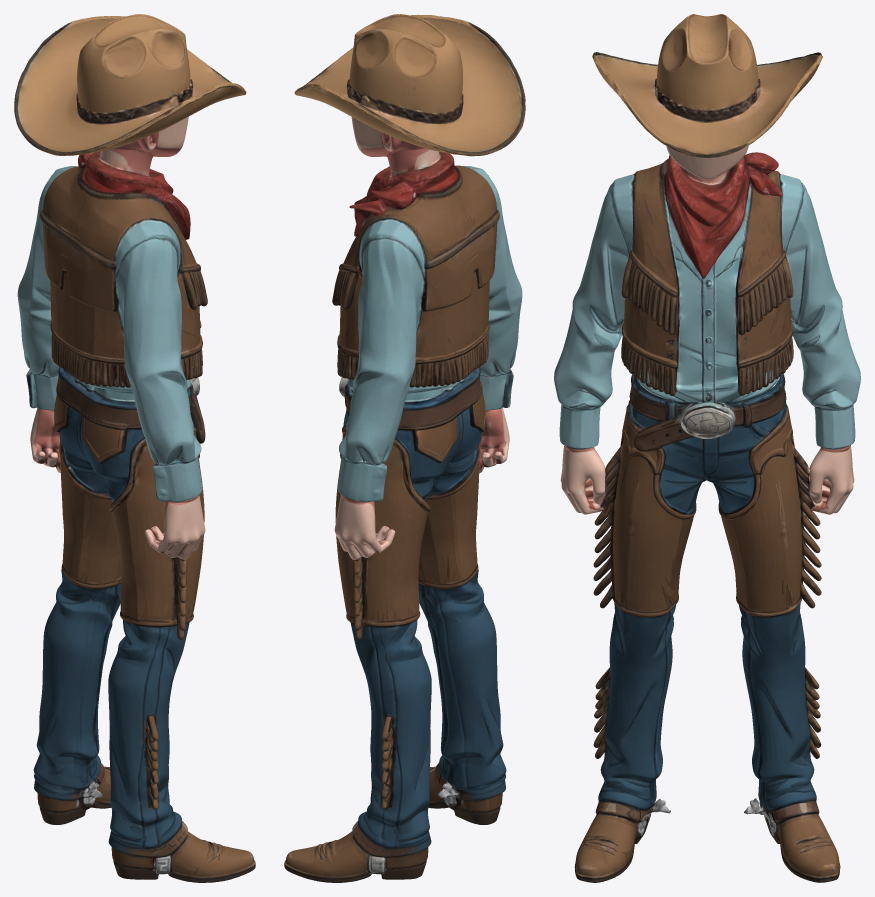
Rendered from cowboy+outfit+3d+model.glb.
3 renders of one model, left to right at view 1: azimuth 30°, elevation 25°; view 2: azimuth 150°, elevation 25°; view 3: azimuth 270°, elevation 25°, orthographic. The views are drawn at different scales.
Visible parts, largest first — view 1: tripo_node_6ff89a74-00f2-4539-a247-1d19a8a8d659; view 2: tripo_node_6ff89a74-00f2-4539-a247-1d19a8a8d659; view 3: tripo_node_6ff89a74-00f2-4539-a247-1d19a8a8d659.
Boxes of the visible parts, bbox=[...] form: tripo_node_6ff89a74-00f2-4539-a247-1d19a8a8d659: bbox=[14, 14, 255, 882]; tripo_node_6ff89a74-00f2-4539-a247-1d19a8a8d659: bbox=[284, 14, 525, 882]; tripo_node_6ff89a74-00f2-4539-a247-1d19a8a8d659: bbox=[554, 14, 860, 882].
Bounding box in the file's own units: 0.257 × 0.9999 × 0.3335.
Materials: 1 (1 with a texture image).
